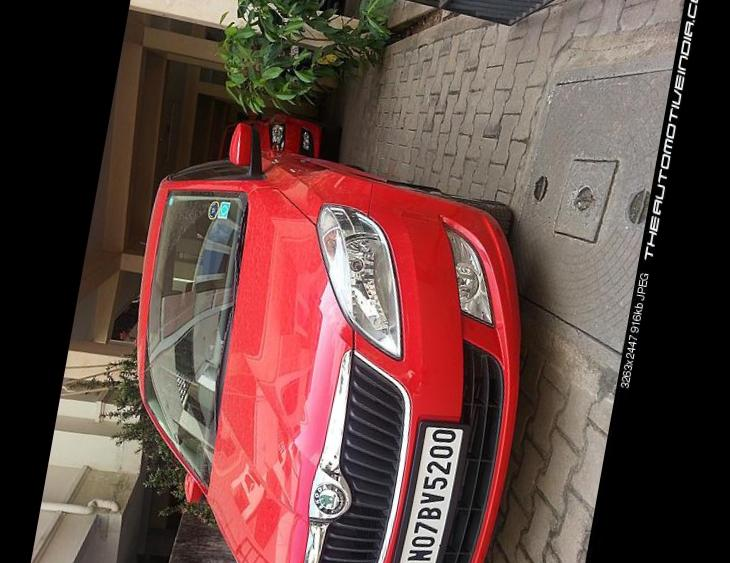plate: (376, 394, 480, 563)
